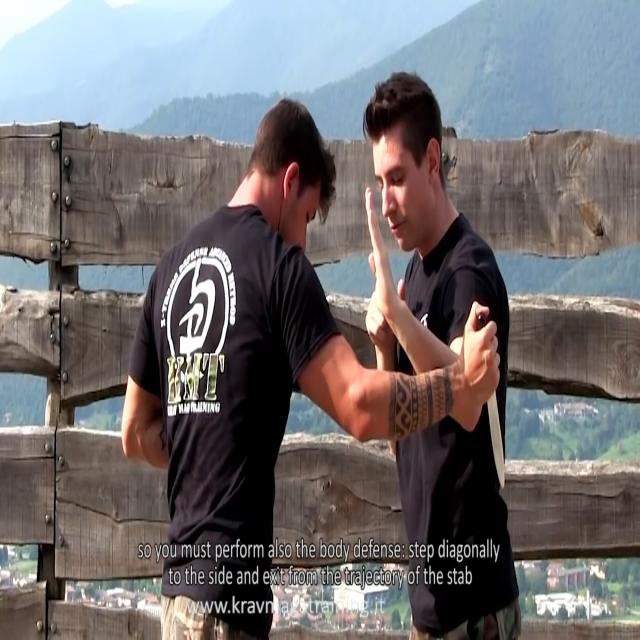knife: (486, 393, 509, 493)
